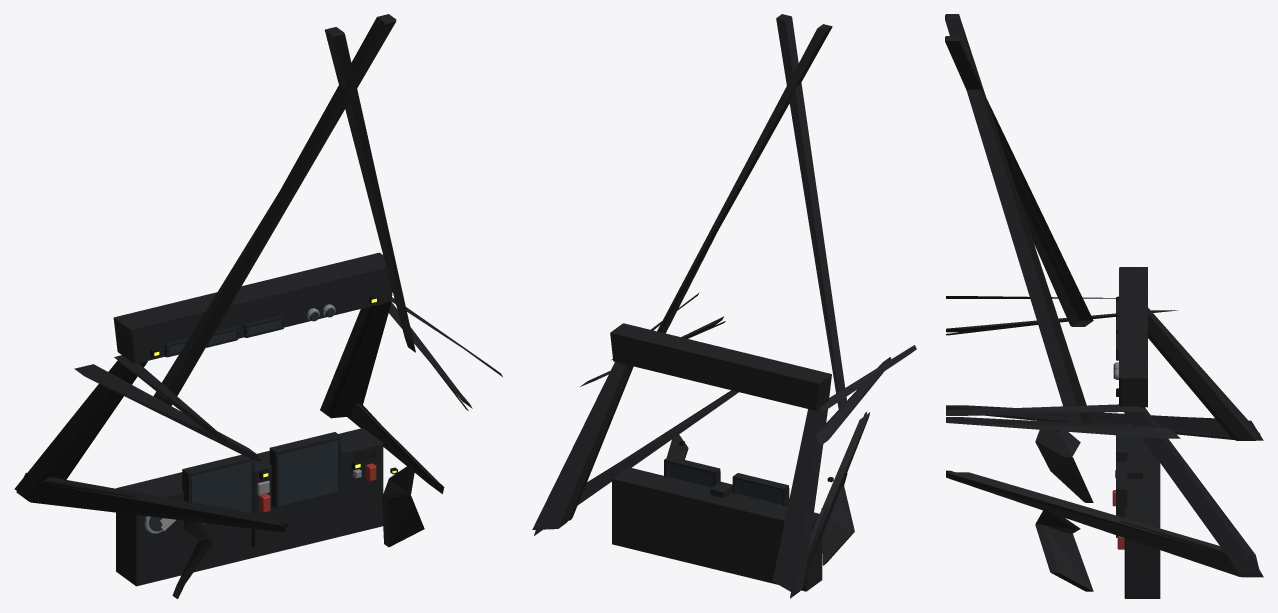
File: cockpit-forward-v4-materials.glb
3 renders of one model, left to right at view 1: azimuth 30°, elevation 25°; view 2: azimuth 150°, elevation 25°; view 3: azimuth 270°, elevation 25°, orthographic. The views are drawn at different scales.
Visible parts, largest first — view 1: canopy__black-coated-steel, interior__black-coated-steel, display-right__screen-black, display-left__screen-black, canopy__rubber, interior__rubber; view 2: canopy__black-coated-steel, interior__black-coated-steel, canopy__rubber, display-left__screen-black, display-right__screen-black; view 3: canopy__black-coated-steel, interior__black-coated-steel, canopy__rubber, interior__rubber.
Part boxes in pixels (box(x1,y1,x2,y2)): canopy__black-coated-steel: box(14, 14, 502, 496); interior__black-coated-steel: box(16, 402, 444, 598); display-right__screen-black: box(278, 440, 338, 505); display-left__screen-black: box(191, 461, 251, 524); canopy__rubber: box(64, 294, 468, 479); interior__rubber: box(38, 403, 440, 526); canopy__black-coated-steel: box(532, 14, 916, 593); interior__black-coated-steel: box(534, 390, 870, 598); canopy__rubber: box(567, 321, 725, 520); display-left__screen-black: box(738, 480, 782, 504); display-right__screen-black: box(670, 463, 713, 487); canopy__black-coated-steel: box(945, 14, 1260, 573); interior__black-coated-steel: box(946, 405, 1263, 598); canopy__rubber: box(946, 296, 1238, 439); interior__rubber: box(946, 407, 1228, 558).
Bounding box in the file's own units: 1.92 × 3.32 × 1.85.
Materials: 7 (3 with a texture image).
